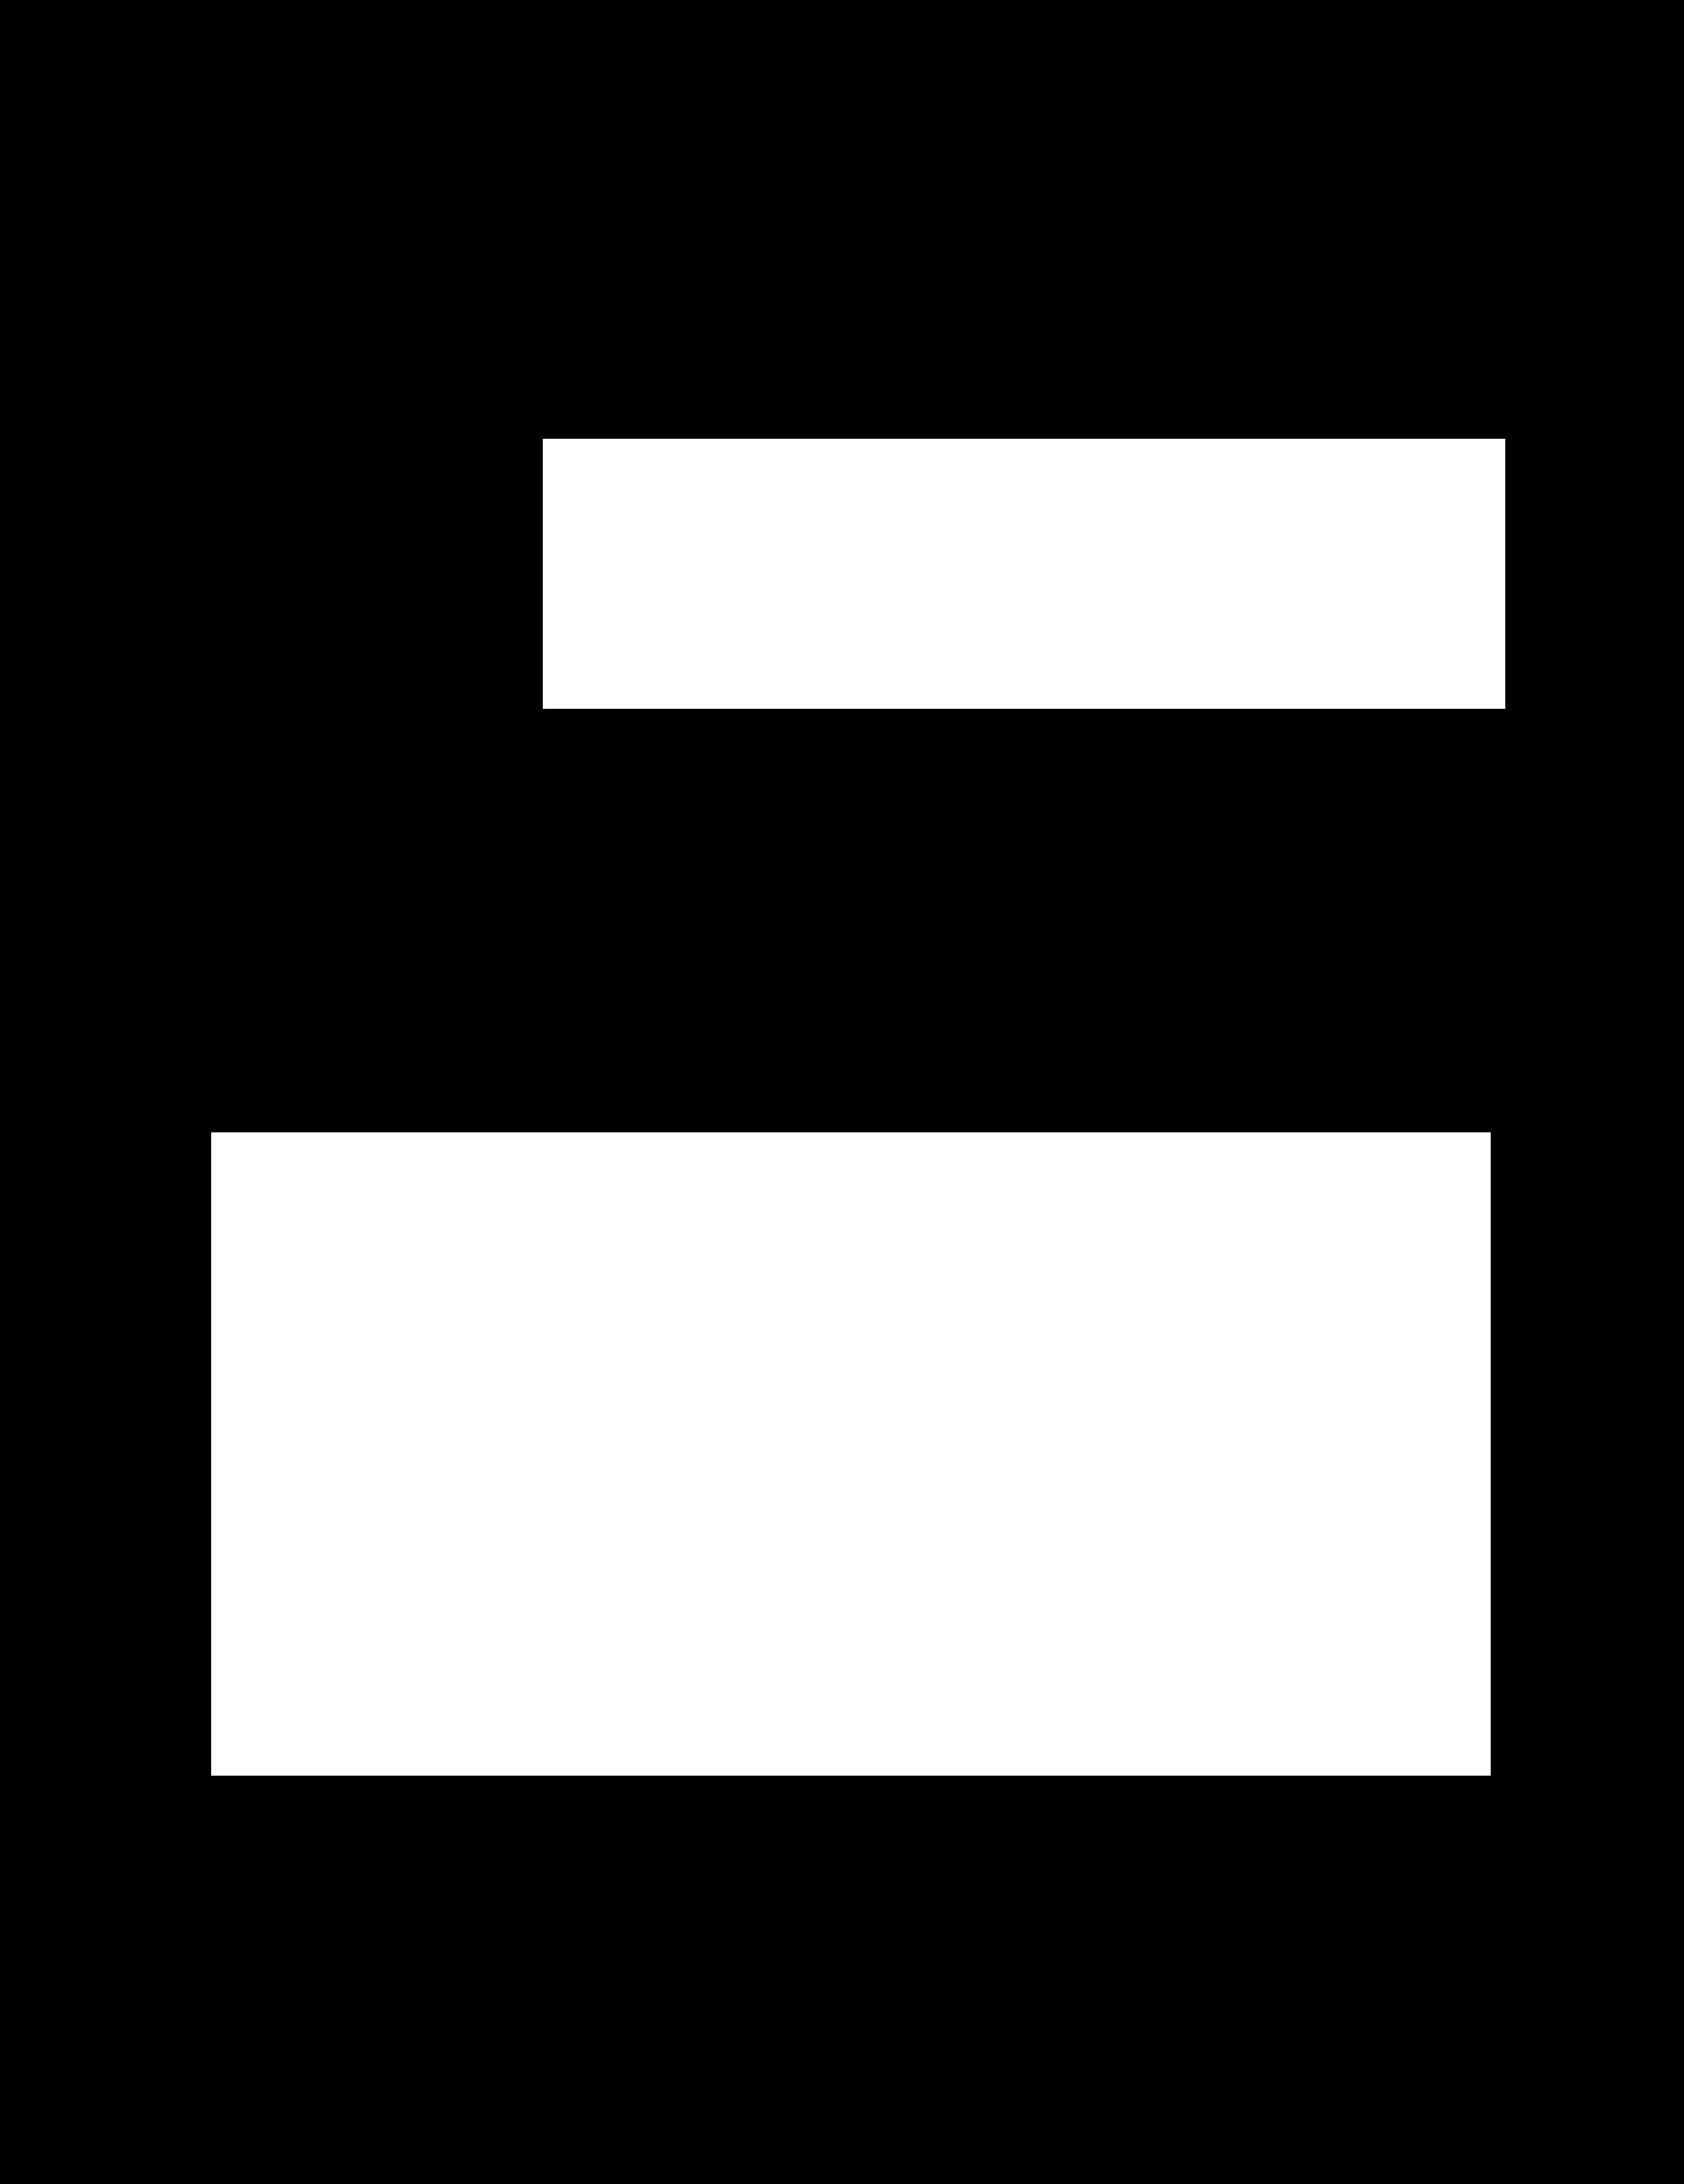table: (210, 1132, 1489, 1775), (543, 439, 1505, 707)
